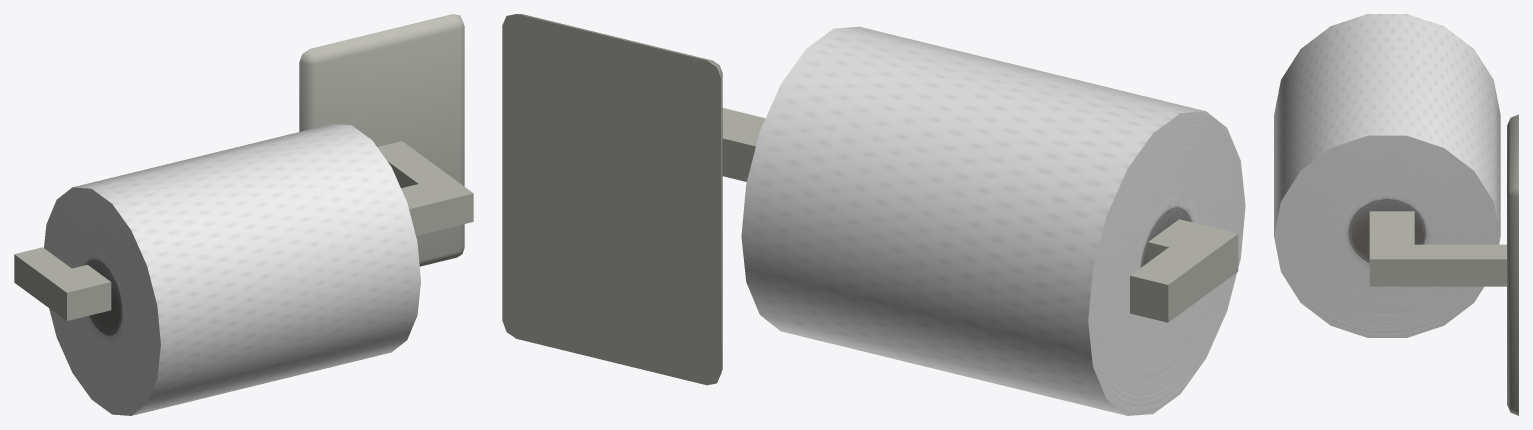
Rendered from ToiletPaper_B.FBX.
The picture shows the model from 3 angles, left to right: view 1: azimuth 30°, elevation 25°; view 2: azimuth 150°, elevation 25°; view 3: azimuth 270°, elevation 25°; orthographic projection. The views are drawn at different scales.
Visible parts, largest first — view 1: ToiletPaper_B; view 2: ToiletPaper_B; view 3: ToiletPaper_B.
Boxes of the visible parts, x1,y1,x2,y2 form: ToiletPaper_B: (14,14,473,415); ToiletPaper_B: (502,14,1245,415); ToiletPaper_B: (1274,14,1518,415).
Size of the model in its own units: 18.02 by 8.85 by 8.39.
